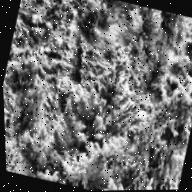boar: (73, 65, 86, 82), (77, 44, 86, 57), (77, 31, 84, 41), (79, 57, 85, 65)
